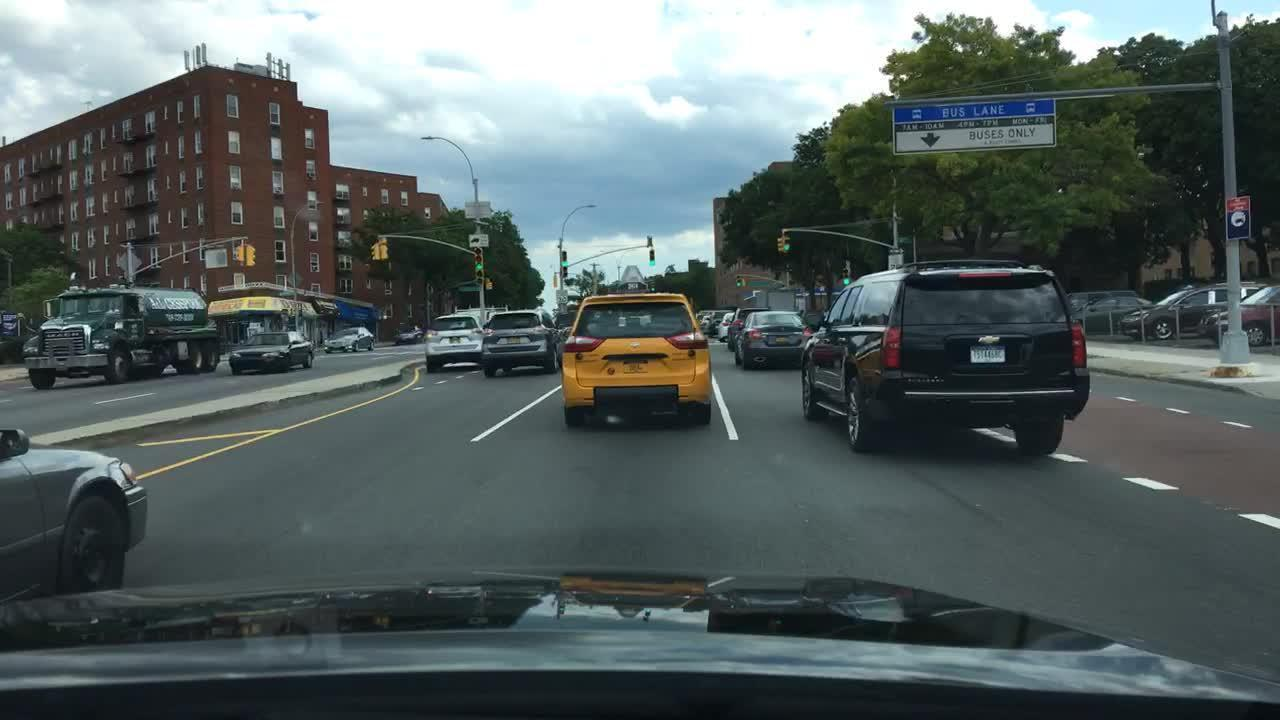chevrolet: (968, 330, 1002, 348)
